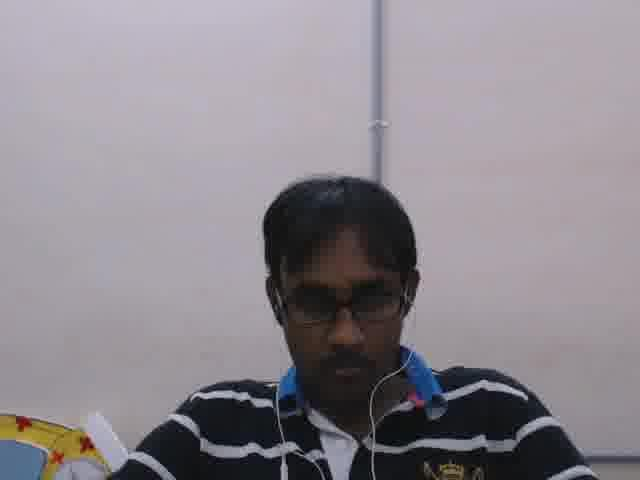bosan: (280, 242, 403, 402)
